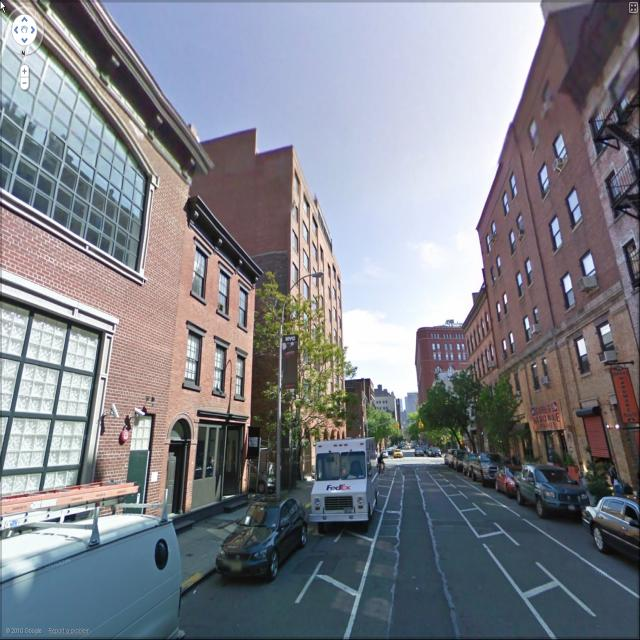b_1: (1, 10, 180, 558), (497, 21, 640, 483), (155, 207, 260, 516), (410, 310, 467, 387), (464, 291, 500, 381)
b_2: (252, 132, 357, 472)
